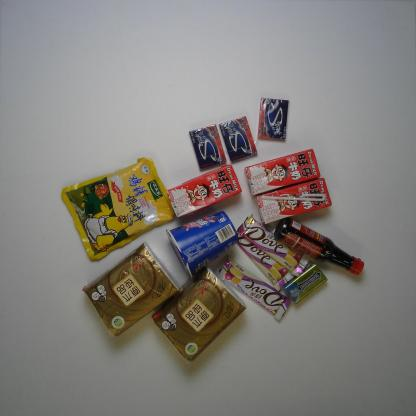Chocolate: (217, 256, 291, 322), (240, 214, 311, 278), (235, 224, 295, 290)
Dessert: (166, 210, 240, 280)
Gum: (218, 115, 258, 163), (187, 123, 226, 170), (284, 264, 328, 305), (255, 97, 292, 140)
Milk: (167, 165, 243, 219), (256, 178, 334, 227), (245, 149, 323, 195)
Seasoner: (58, 157, 178, 260), (274, 216, 364, 276)
Tissue: (82, 242, 182, 336), (154, 269, 247, 363)
